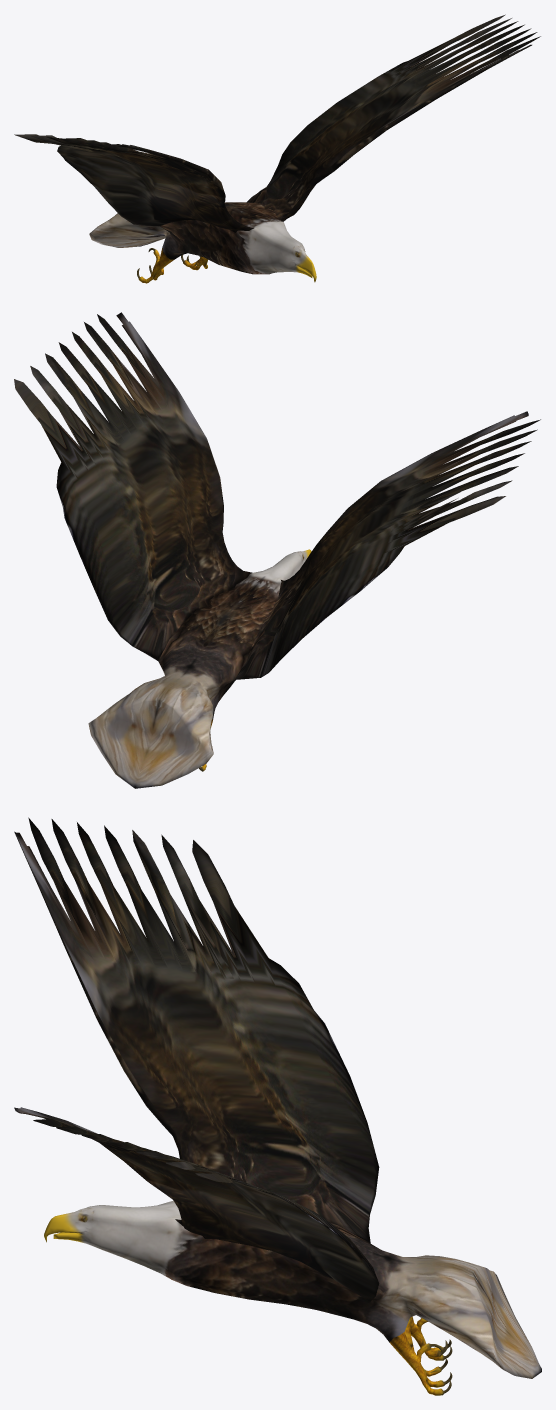
The model's file is eagle.obj.
The picture shows the model from 3 angles, top to bottom: view 1: azimuth 30°, elevation 25°; view 2: azimuth 150°, elevation 25°; view 3: azimuth 270°, elevation 25°; orthographic projection. The views are drawn at different scales.
Visible parts, largest first — view 1: Flugel_Plane.003; view 2: Flugel_Plane.003; view 3: Flugel_Plane.003.
Part boxes in pixels (<box>): Flugel_Plane.003: <box>14,14,540,283</box>; Flugel_Plane.003: <box>14,312,540,788</box>; Flugel_Plane.003: <box>14,817,541,1395</box>.
Bounding box in the file's own units: 9.22 × 5.22 × 6.16.
Materials: 1 (1 with a texture image).
